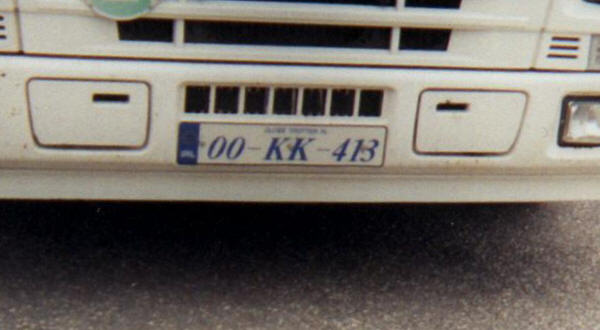license_plate: (176, 122, 390, 169)
